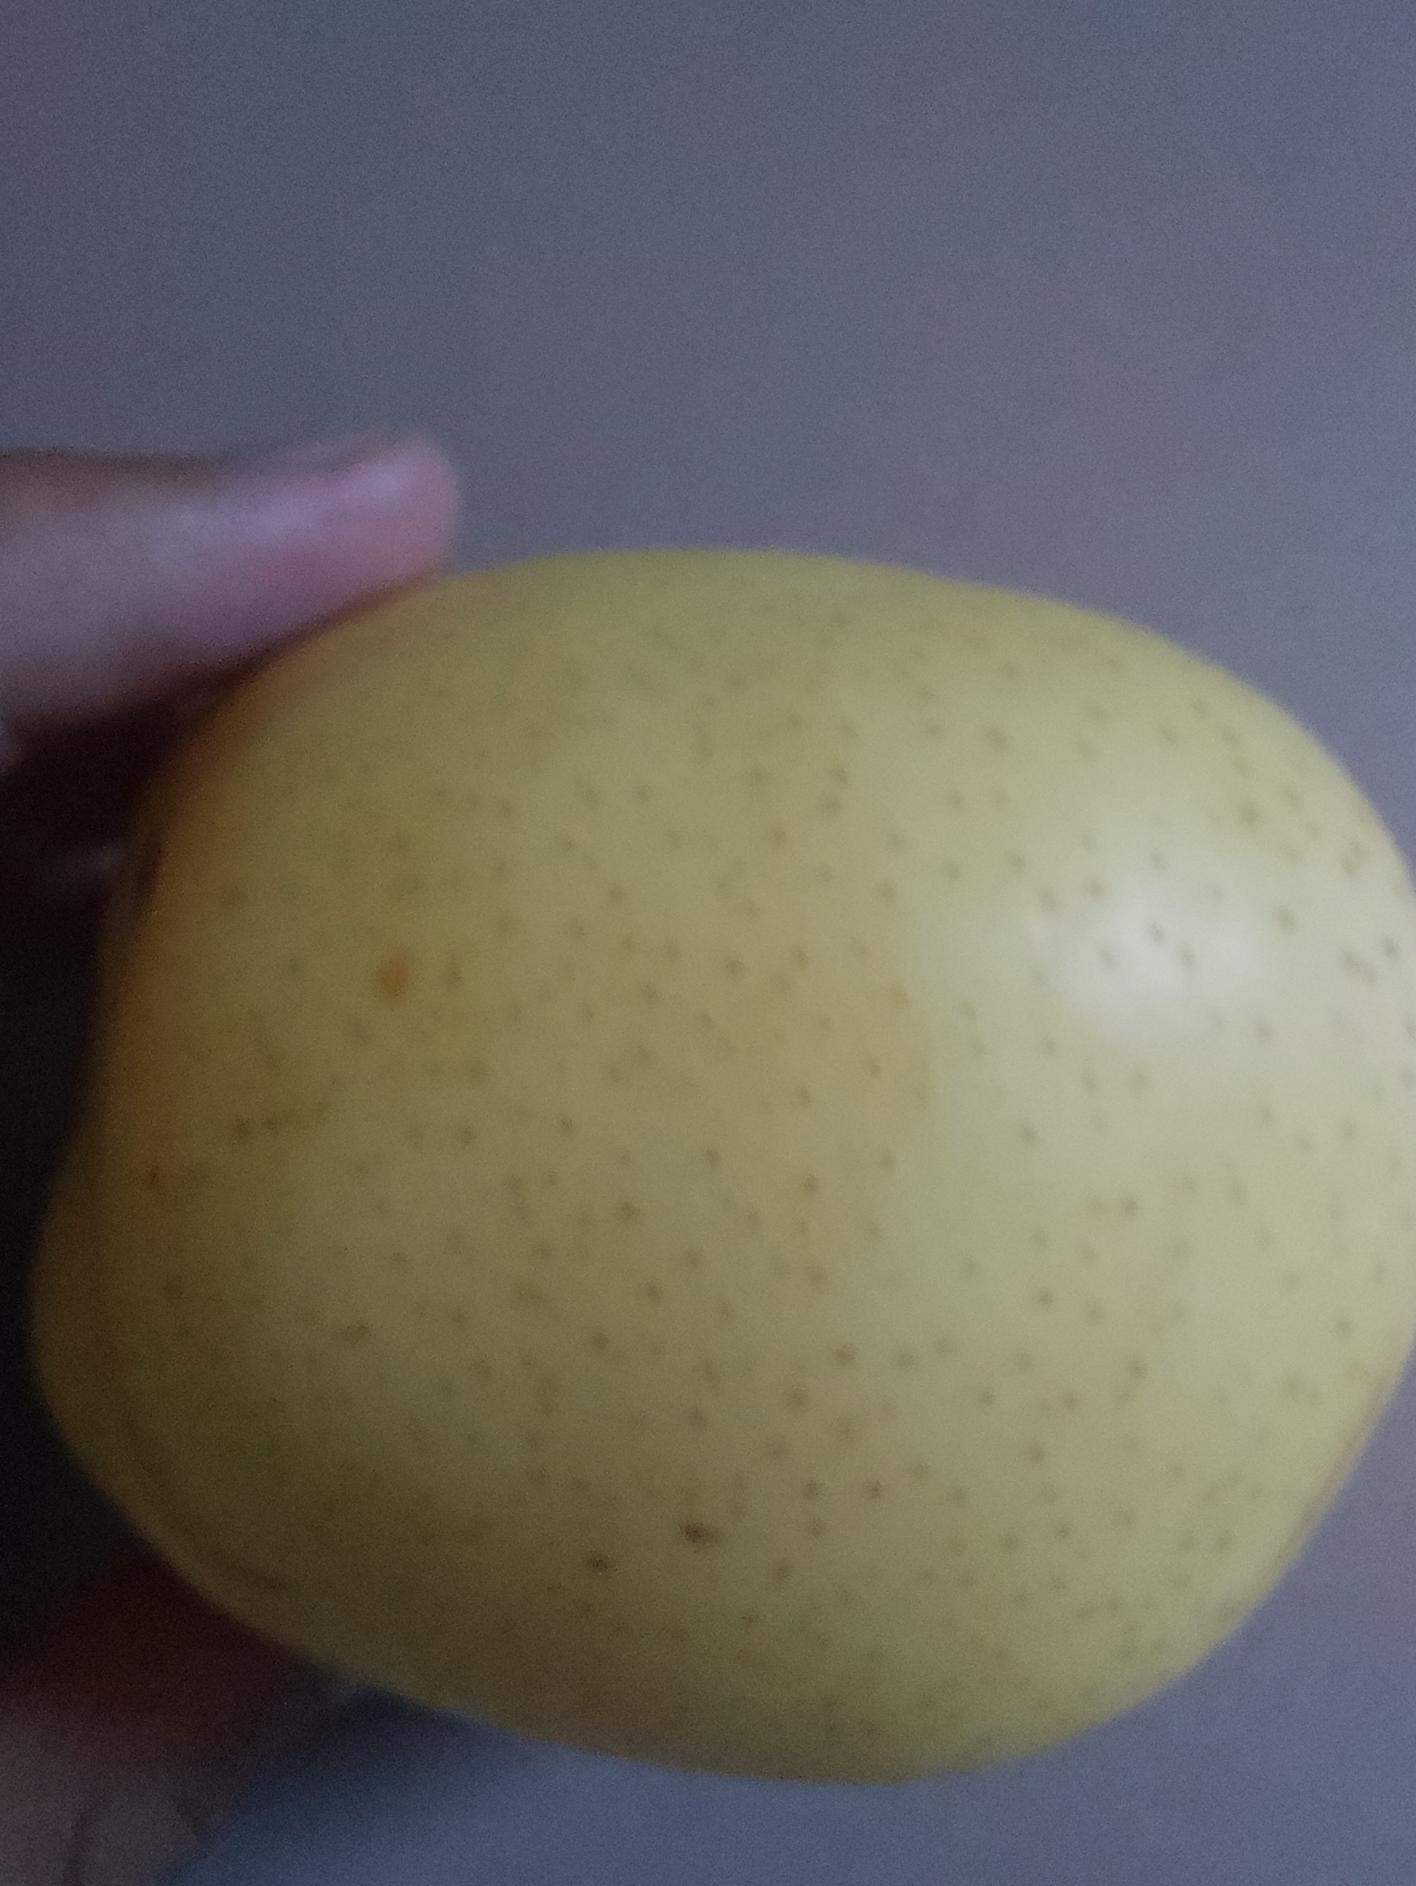Good Pear: (30, 527, 1416, 1791)
